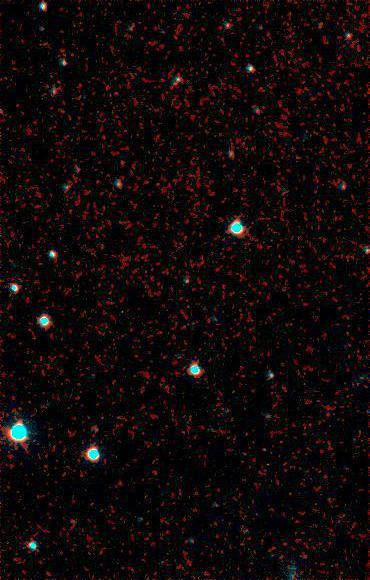star: (287, 141, 317, 171)
